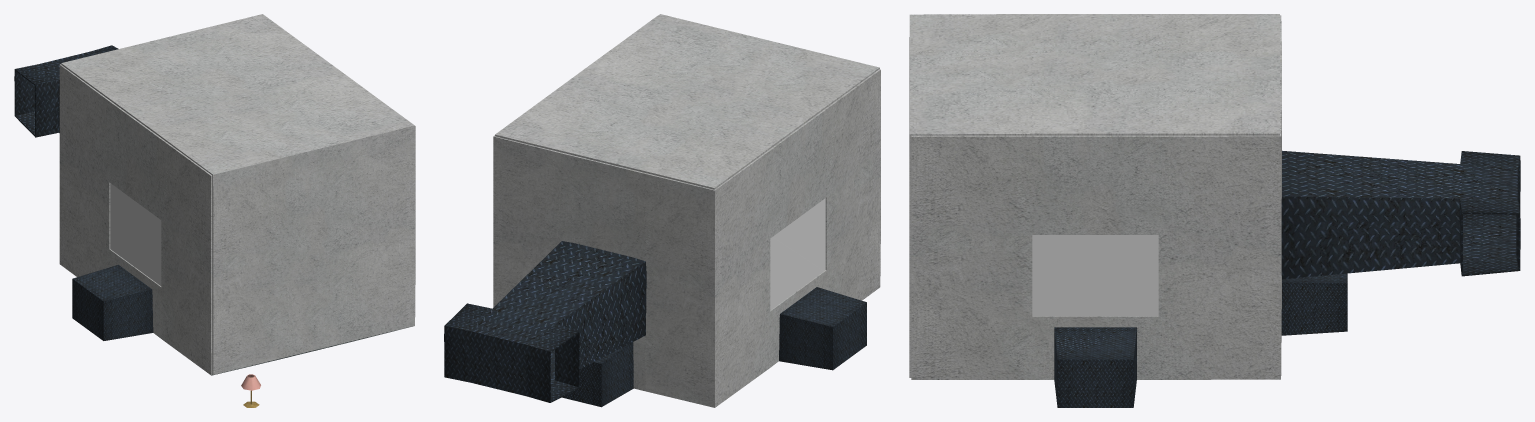
The model's file is offic.glb.
The picture shows the model from 3 angles, left to right: view 1: azimuth 30°, elevation 25°; view 2: azimuth 150°, elevation 25°; view 3: azimuth 270°, elevation 25°; orthographic projection. The views are drawn at different scales.
Parts seen in each view (by area): view 1: Plane.008, Plane.005, Plane.006; view 2: Plane.005, Plane.008, Plane.006; view 3: Plane.005, Plane.008, Plane.006.
Part boxes in pixels (x1,y1,x2,y2): Plane.008: [61, 14, 414, 374]; Plane.005: [14, 45, 415, 375]; Plane.006: [110, 183, 161, 285]; Plane.005: [444, 15, 880, 407]; Plane.008: [495, 14, 879, 189]; Plane.006: [770, 198, 825, 310]; Plane.005: [911, 15, 1520, 407]; Plane.008: [909, 14, 1279, 377]; Plane.006: [1032, 235, 1158, 316].
Size of the model in its own units: 6.01 by 4.81 by 8.63.
Materials: 31 (27 with a texture image).
